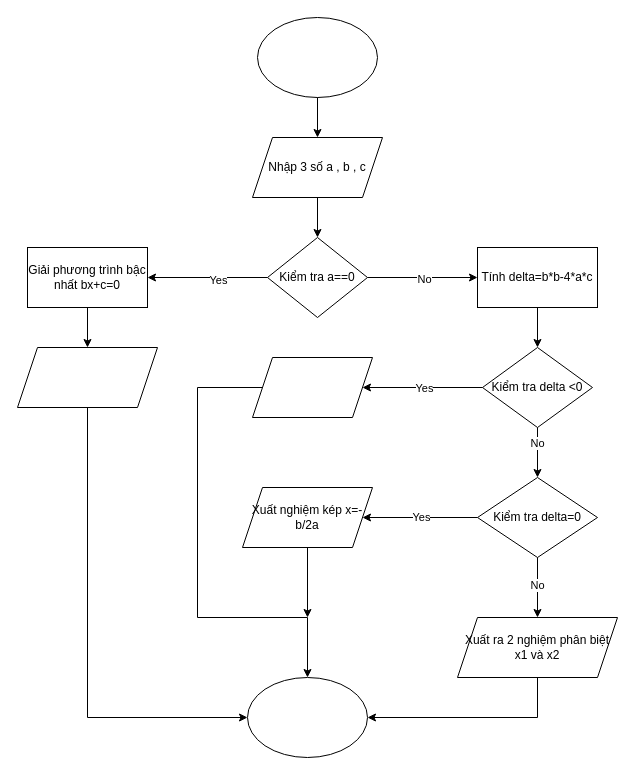
This 635x775 diagram has some shape labels left out. Here are the shapes that lost their labels. From the top down, the centre of each, then its label:
At (317,57): "Start".
At (87,377): "In ra màn hình x=?".
At (312,387): "Vô nghiệm".
At (307,717): "End".
